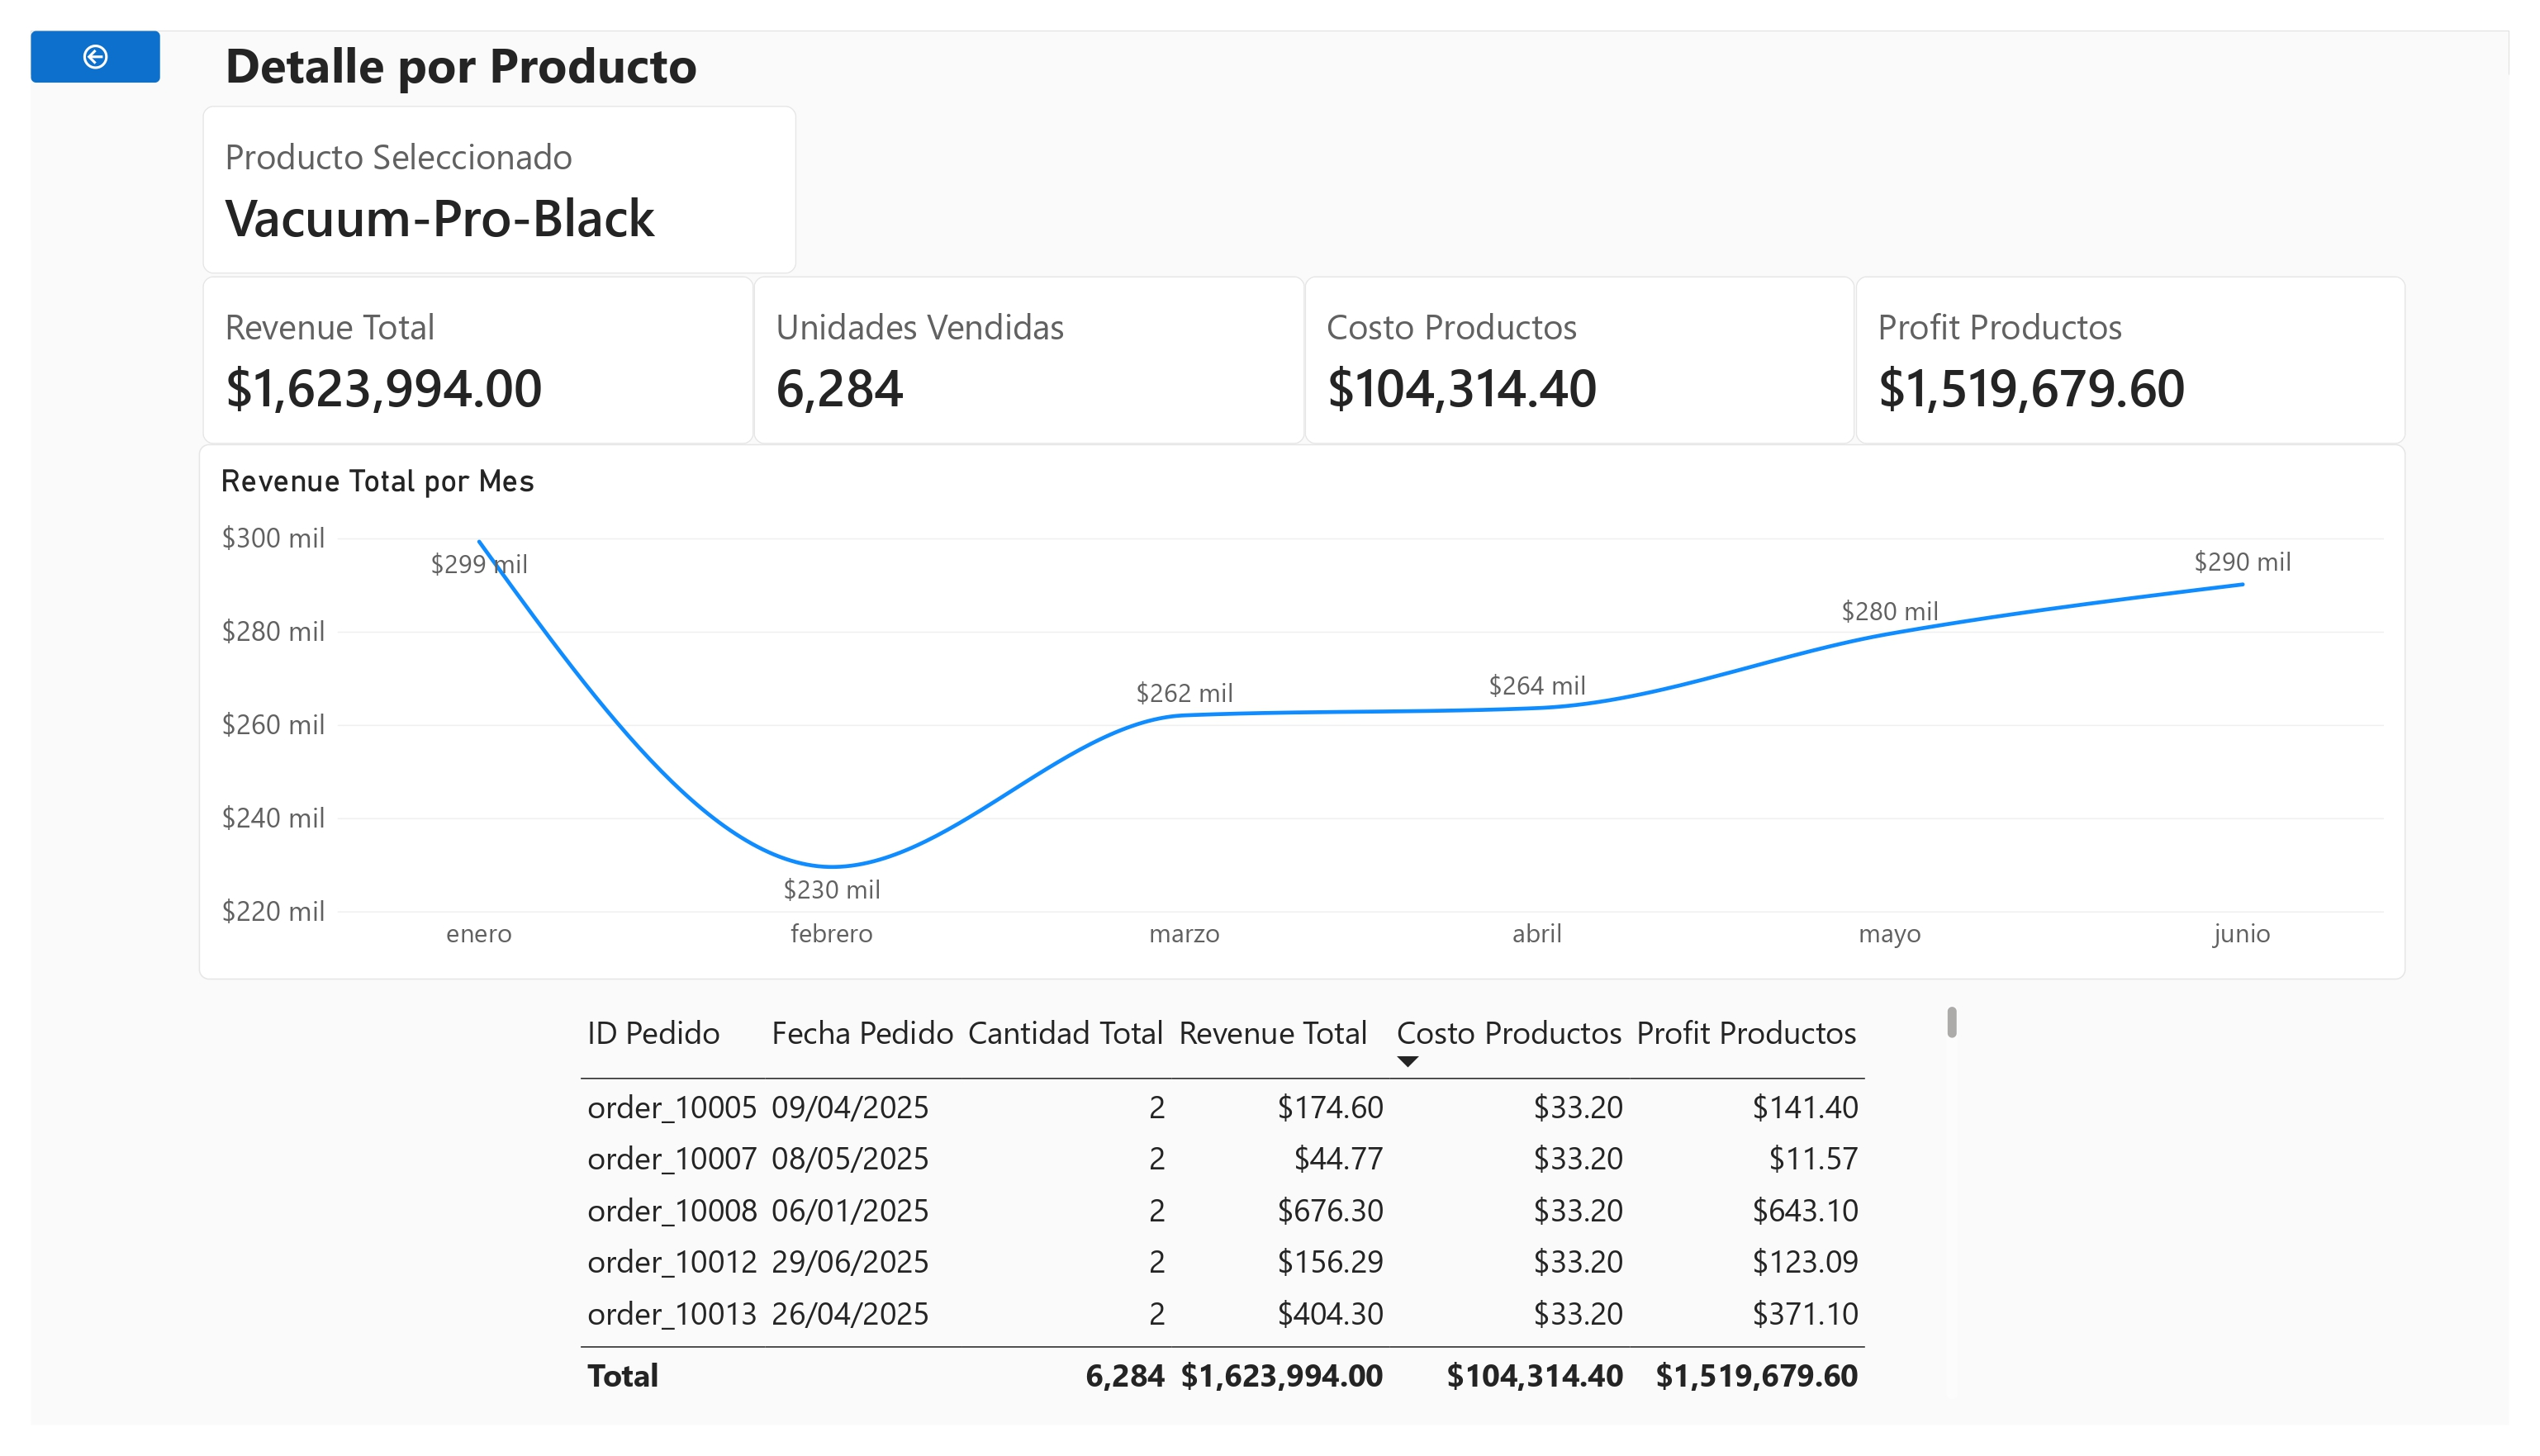

The page's visual inventory and layout, read from the dashboard file:
{"tool":"powerbi","page":{"name":"Detalle Producto","canvas":[1920,1080],"ordinal":2},"visuals":[{"type":"actionButton","box":[0,0,100,40],"z":0},{"type":"cardVisual","fields":{"Data":["orders_clean.Producto Seleccionado"]},"box":[132.5,57.5,460,130],"z":1000},{"type":"cardVisual","fields":{"Data":["orders_clean.Revenue Total"]},"box":[132.5,190,426.6,129.9],"z":2000,"group":"g1"},{"type":"tableEx","fields":{"Values":["orders_clean.id_pedido","orders_clean.FechaPedido","orders_clean.Cantidad Total","orders_clean.Revenue Total","orders_clean.Costo Productos","orders_clean.Profit Productos"]},"box":[425,755,1067.5,305],"z":2000},{"type":"cardVisual","fields":{"Data":["orders_clean.Unidades Vendidas"]},"box":[559.4,190,426.6,129.9],"z":3000,"group":"g1"},{"type":"lineChart","title":"Revenue Total por Mes","fields":{"Category":["dim_fecha.NombreMes"],"Y":["orders_clean.Revenue Total"]},"box":[130,320,1710,415],"z":3000},{"type":"group","id":"g1","title":"Grupo 1","box":[132.5,190,1707.5,130],"z":4000},{"type":"cardVisual","fields":{"Data":["orders_clean.Costo Productos"]},"box":[986.3,190,426.6,129.9],"z":4000,"group":"g1"},{"type":"textbox","box":[150,0,1770,57.5],"z":5000},{"type":"cardVisual","fields":{"Data":["orders_clean.Profit Productos"]},"box":[1413.1,190,426.6,129.9],"z":5000,"group":"g1"}]}

Visuals, with their boxes on the page's 1920x1080 design canvas (x1, y1, x2, y2). These are canvas units, not pixel positions in the 2540x1456 screenshot, which may show the page scaled, cropped or inside an application window:
actionButton: select_region(0, 0, 100, 40)
cardVisual - orders_clean.Producto Seleccionado: select_region(132, 58, 592, 188)
cardVisual - orders_clean.Revenue Total: select_region(132, 190, 559, 320)
tableEx - orders_clean.id_pedido x orders_clean.FechaPedido: select_region(425, 755, 1492, 1060)
cardVisual - orders_clean.Unidades Vendidas: select_region(559, 190, 986, 320)
"Revenue Total por Mes" lineChart: select_region(130, 320, 1840, 735)
"Grupo 1" group: select_region(132, 190, 1840, 320)
cardVisual - orders_clean.Costo Productos: select_region(986, 190, 1413, 320)
textbox: select_region(150, 0, 1920, 58)
cardVisual - orders_clean.Profit Productos: select_region(1413, 190, 1840, 320)
